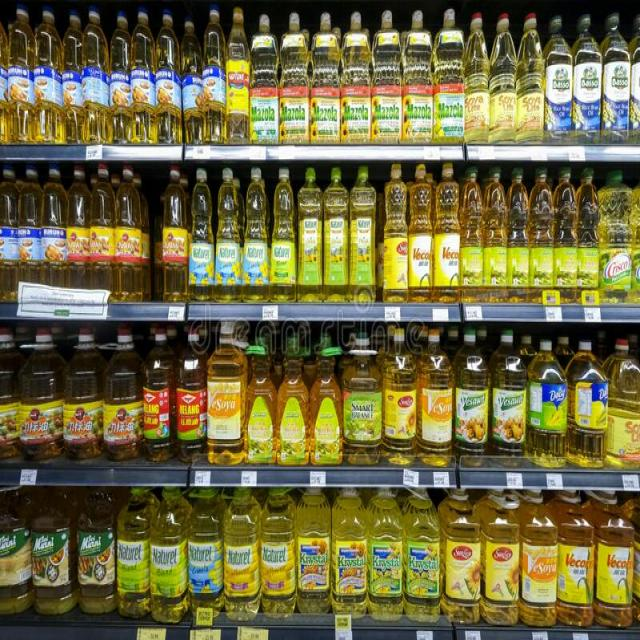Oil: (0, 13, 224, 140), (250, 17, 464, 145), (118, 494, 297, 623), (444, 170, 602, 304), (294, 492, 441, 631), (0, 489, 129, 622), (0, 331, 142, 449), (190, 170, 299, 304), (546, 8, 640, 141), (540, 501, 637, 627), (46, 174, 147, 295), (525, 338, 617, 468), (247, 346, 343, 467), (464, 9, 550, 144), (139, 323, 218, 464), (381, 163, 462, 299), (438, 494, 520, 627), (294, 170, 376, 299), (0, 176, 81, 298), (456, 331, 527, 463), (386, 337, 456, 462), (343, 324, 386, 466), (206, 326, 248, 467), (598, 169, 640, 304), (603, 336, 640, 467), (219, 8, 254, 146), (162, 168, 191, 304), (523, 497, 558, 607)
